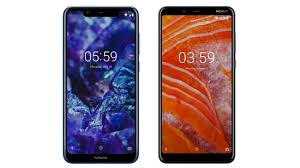nokia: (61, 2, 142, 164), (156, 4, 237, 166)
